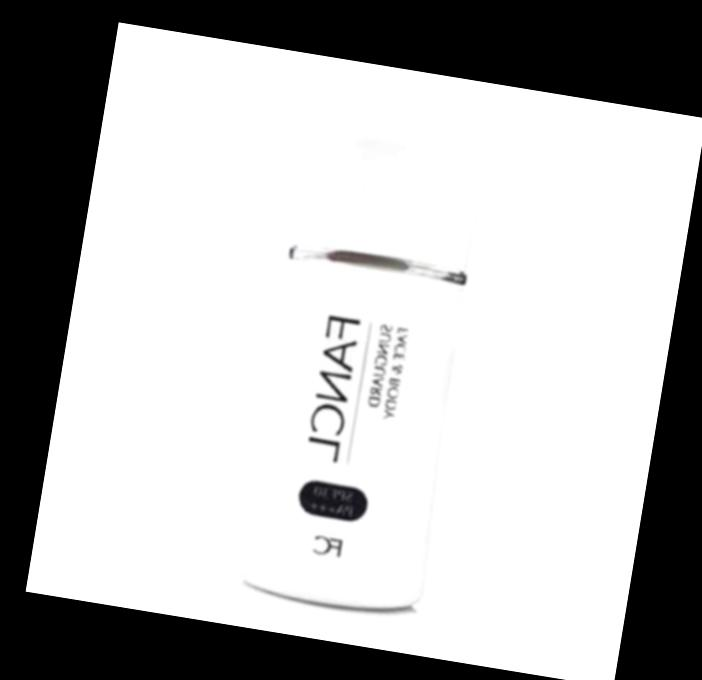cosmetic: (221, 130, 496, 621)
